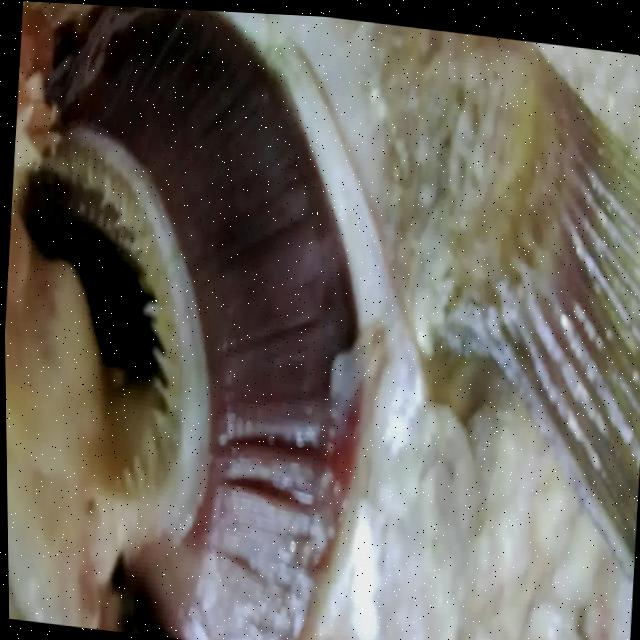Non-Fresh: (29, 2, 403, 640)
